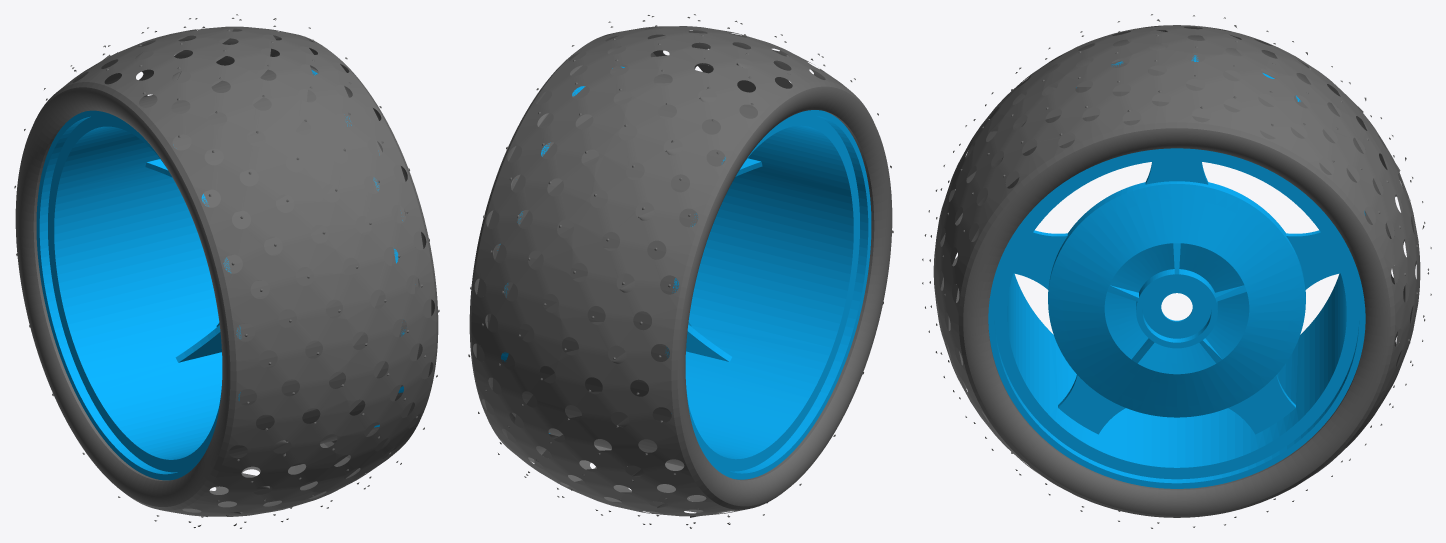
File: Cramped Robot Wheel.glb
The picture shows the model from 3 angles, left to right: view 1: azimuth 30°, elevation 25°; view 2: azimuth 150°, elevation 25°; view 3: azimuth 270°, elevation 25°; orthographic projection.
Parts seen in each view (by area): view 1: Node2, Node3, Node1; view 2: Node2, Node3, Node1; view 3: Node3, Node2, Node1.
Part boxes in pixels (left/top/right/bottom): Node2: left=15, top=14, right=438, bottom=516; Node3: left=36, top=70, right=405, bottom=480; Node1: left=14, top=18, right=439, bottom=528; Node2: left=469, top=14, right=893, bottom=516; Node3: left=497, top=66, right=871, bottom=479; Node1: left=468, top=20, right=863, bottom=528; Node3: left=988, top=55, right=1365, bottom=488; Node2: left=924, top=25, right=1420, bottom=517; Node1: left=922, top=14, right=1431, bottom=528.
Size of the model in its own units: 38.35 by 81.08 by 81.08.
